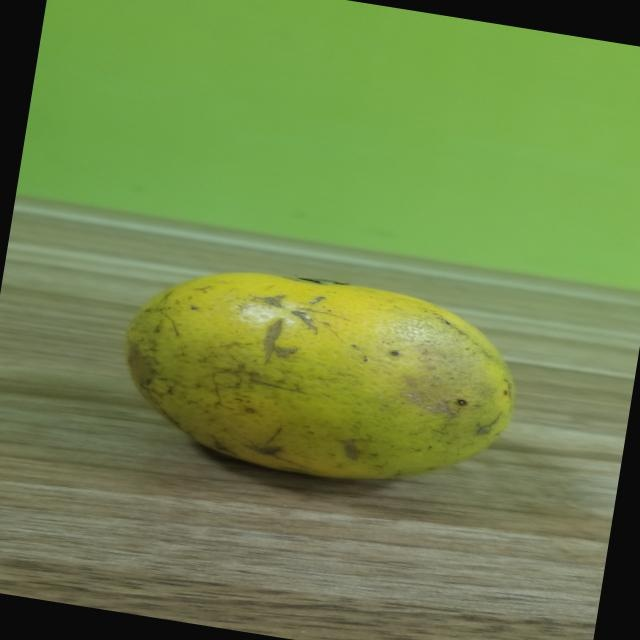agrume: (93, 238, 541, 522)
